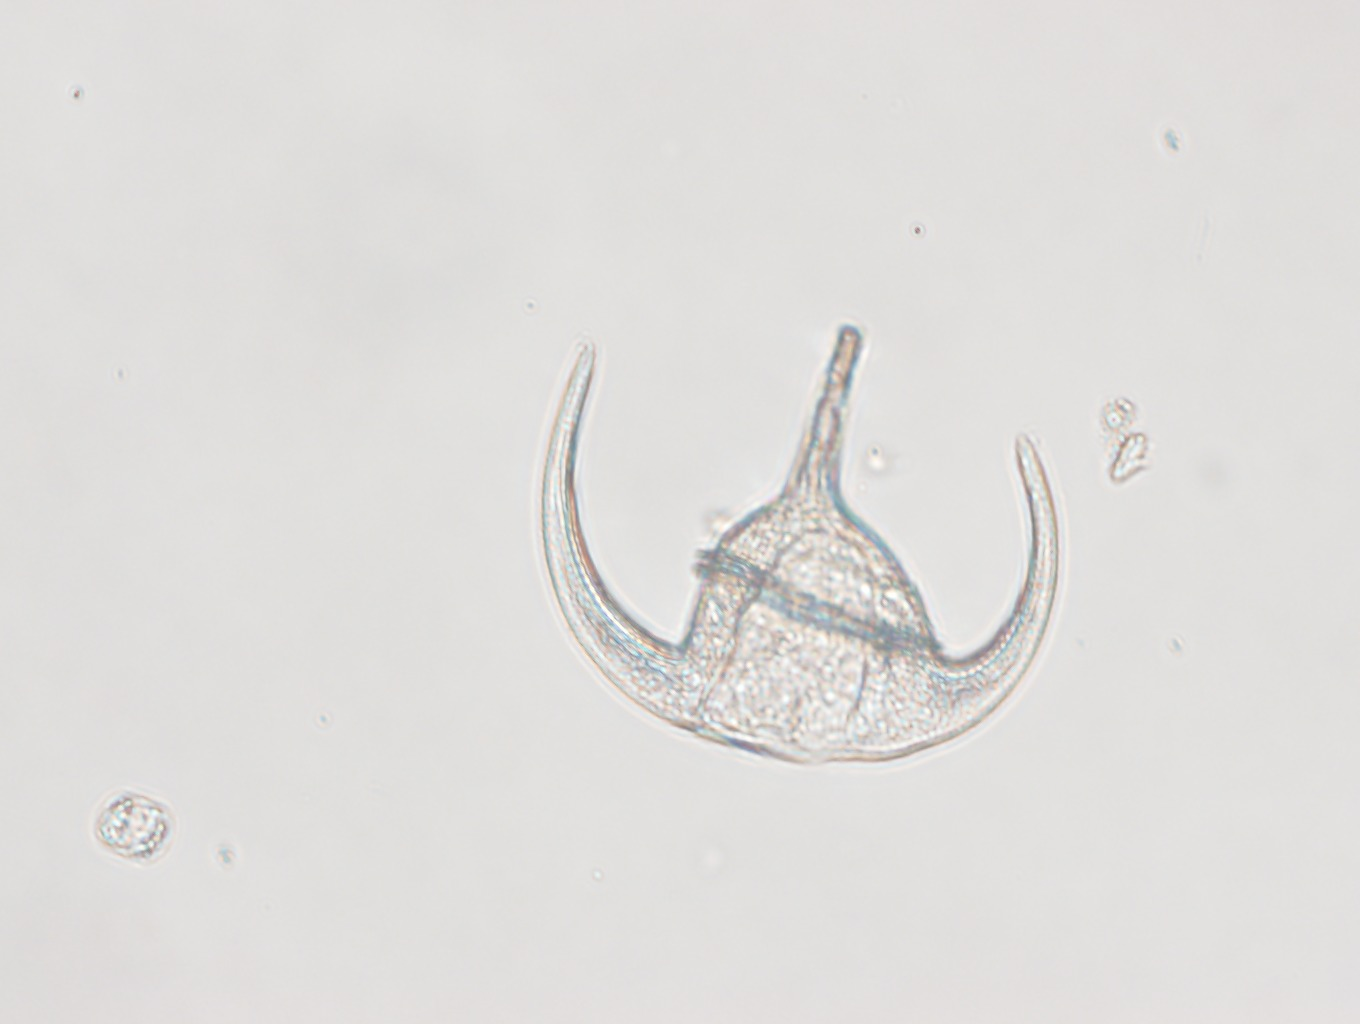ceratium tripos: (541, 321, 1059, 767)
